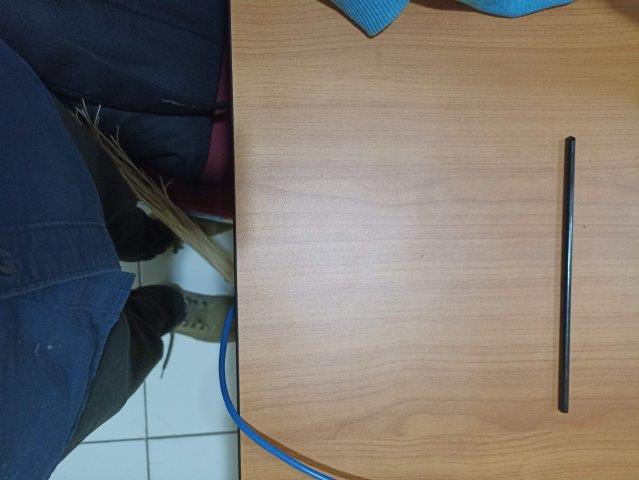sedotan: (559, 136, 576, 412)
